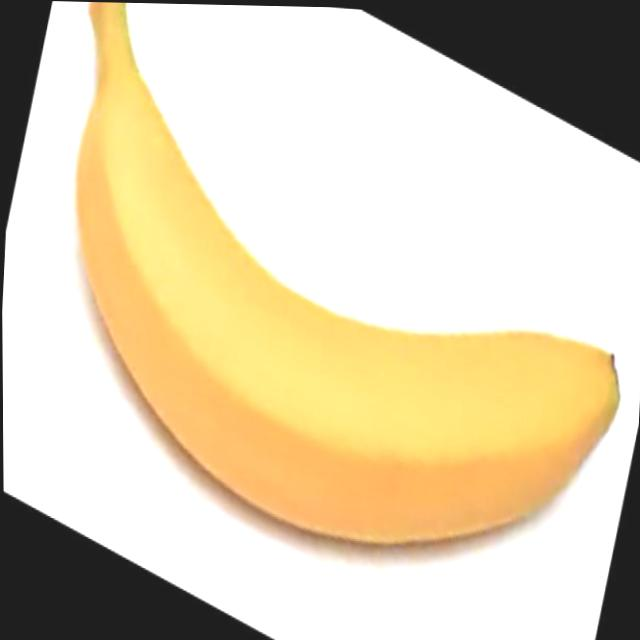Banana: (56, 1, 640, 561)
